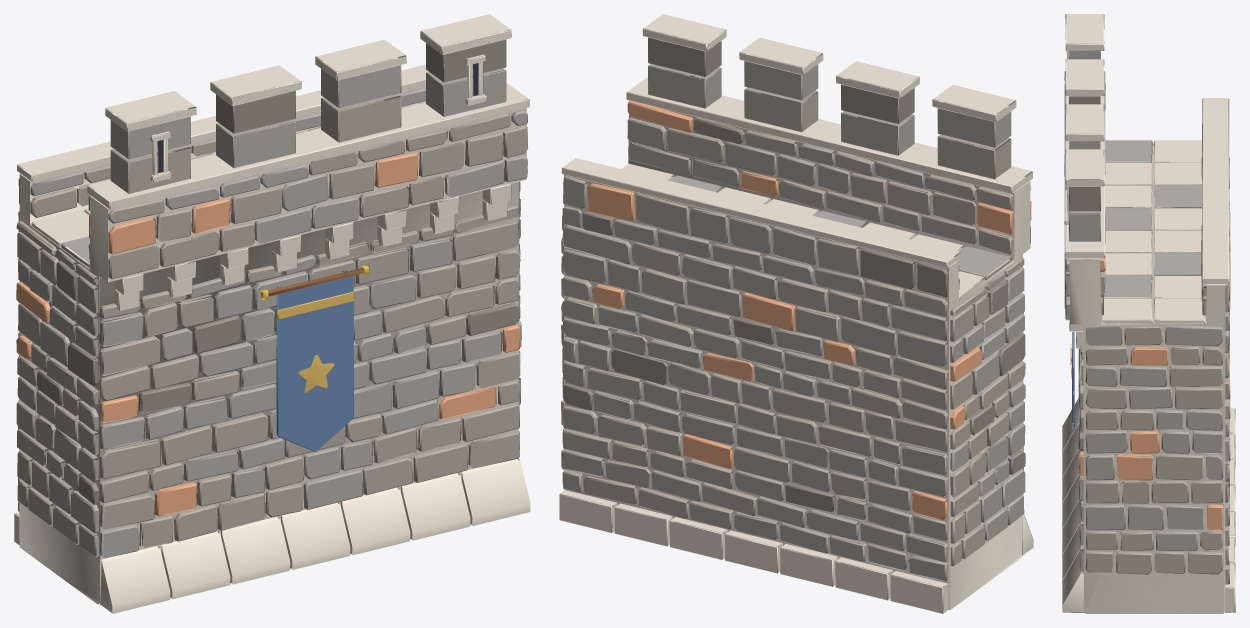
Rendered from muralla.glb.
3 views of the same model, side by side, from view 1: azimuth 30°, elevation 25°; view 2: azimuth 150°, elevation 25°; view 3: azimuth 270°, elevation 25° (orthographic). The views are drawn at different scales.
Parts seen in each view (by area): view 1: castle-wall_body; view 2: castle-wall_body; view 3: castle-wall_body.
Part boxes in pixels (left/top/right/bottom): castle-wall_body: left=14, top=14, right=530, bottom=613; castle-wall_body: left=559, top=14, right=1033, bottom=613; castle-wall_body: left=1062, top=14, right=1235, bottom=613.
Size of the model in its own units: 6.13 by 6.62 by 2.43.
Materials: 11 (1 with a texture image).
